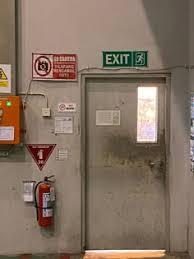exit: (85, 78, 168, 250)
unlit_exit_sign: (103, 51, 147, 67)
